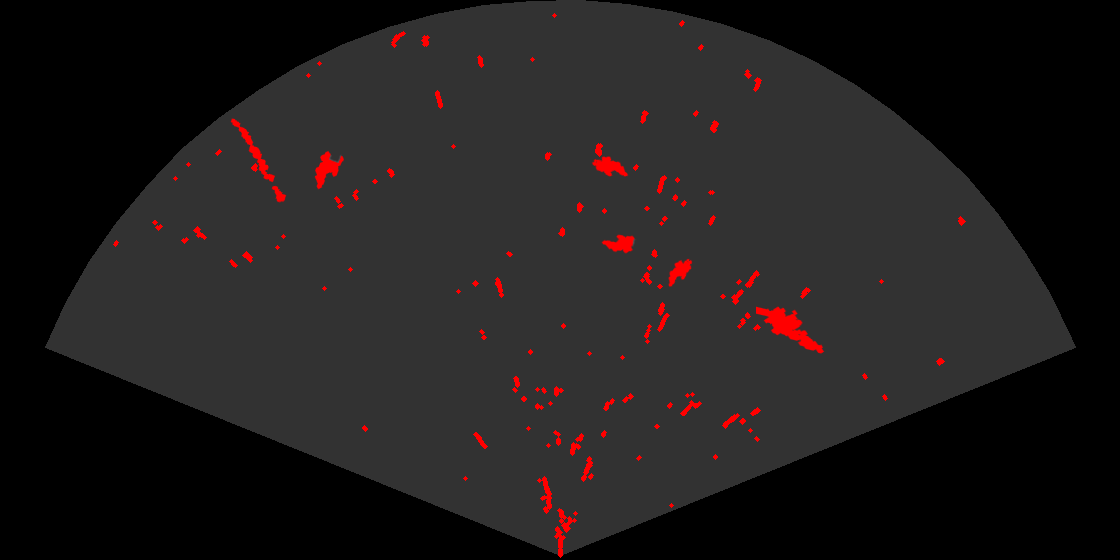AUV: (313, 150, 345, 191), (590, 155, 630, 178), (667, 257, 694, 288), (600, 233, 637, 255)
chain: (229, 117, 288, 204)
frogman: (756, 305, 826, 355)
